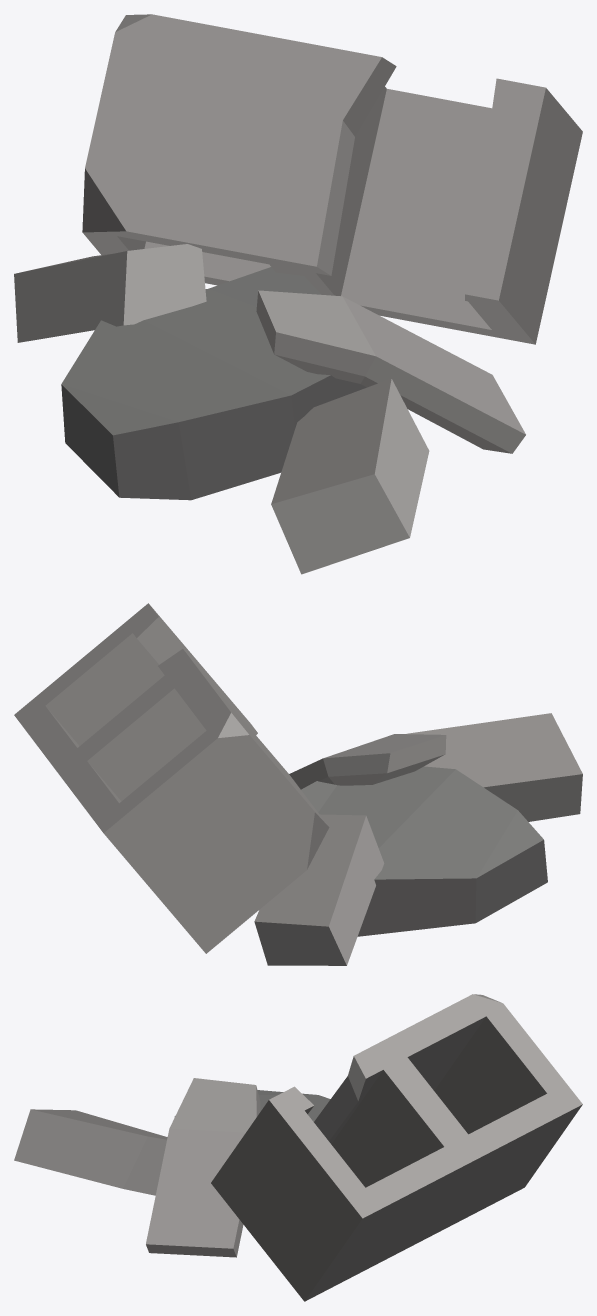
The model's file is SM_Prop_Rubble_Pile_01.fbx.
The picture shows the model from 3 angles, top to bottom: view 1: azimuth 30°, elevation 25°; view 2: azimuth 150°, elevation 25°; view 3: azimuth 270°, elevation 25°; orthographic projection. The views are drawn at different scales.
Parts seen in each view (by area): view 1: SM_Prop_Rubble_Pile_01; view 2: SM_Prop_Rubble_Pile_01; view 3: SM_Prop_Rubble_Pile_01.
Part boxes in pixels (x1,y1,x2,y2): SM_Prop_Rubble_Pile_01: (14, 14, 582, 574); SM_Prop_Rubble_Pile_01: (14, 603, 582, 965); SM_Prop_Rubble_Pile_01: (14, 994, 582, 1301).
Bounding box in the file's own units: 64.52 × 33.39 × 79.11.
